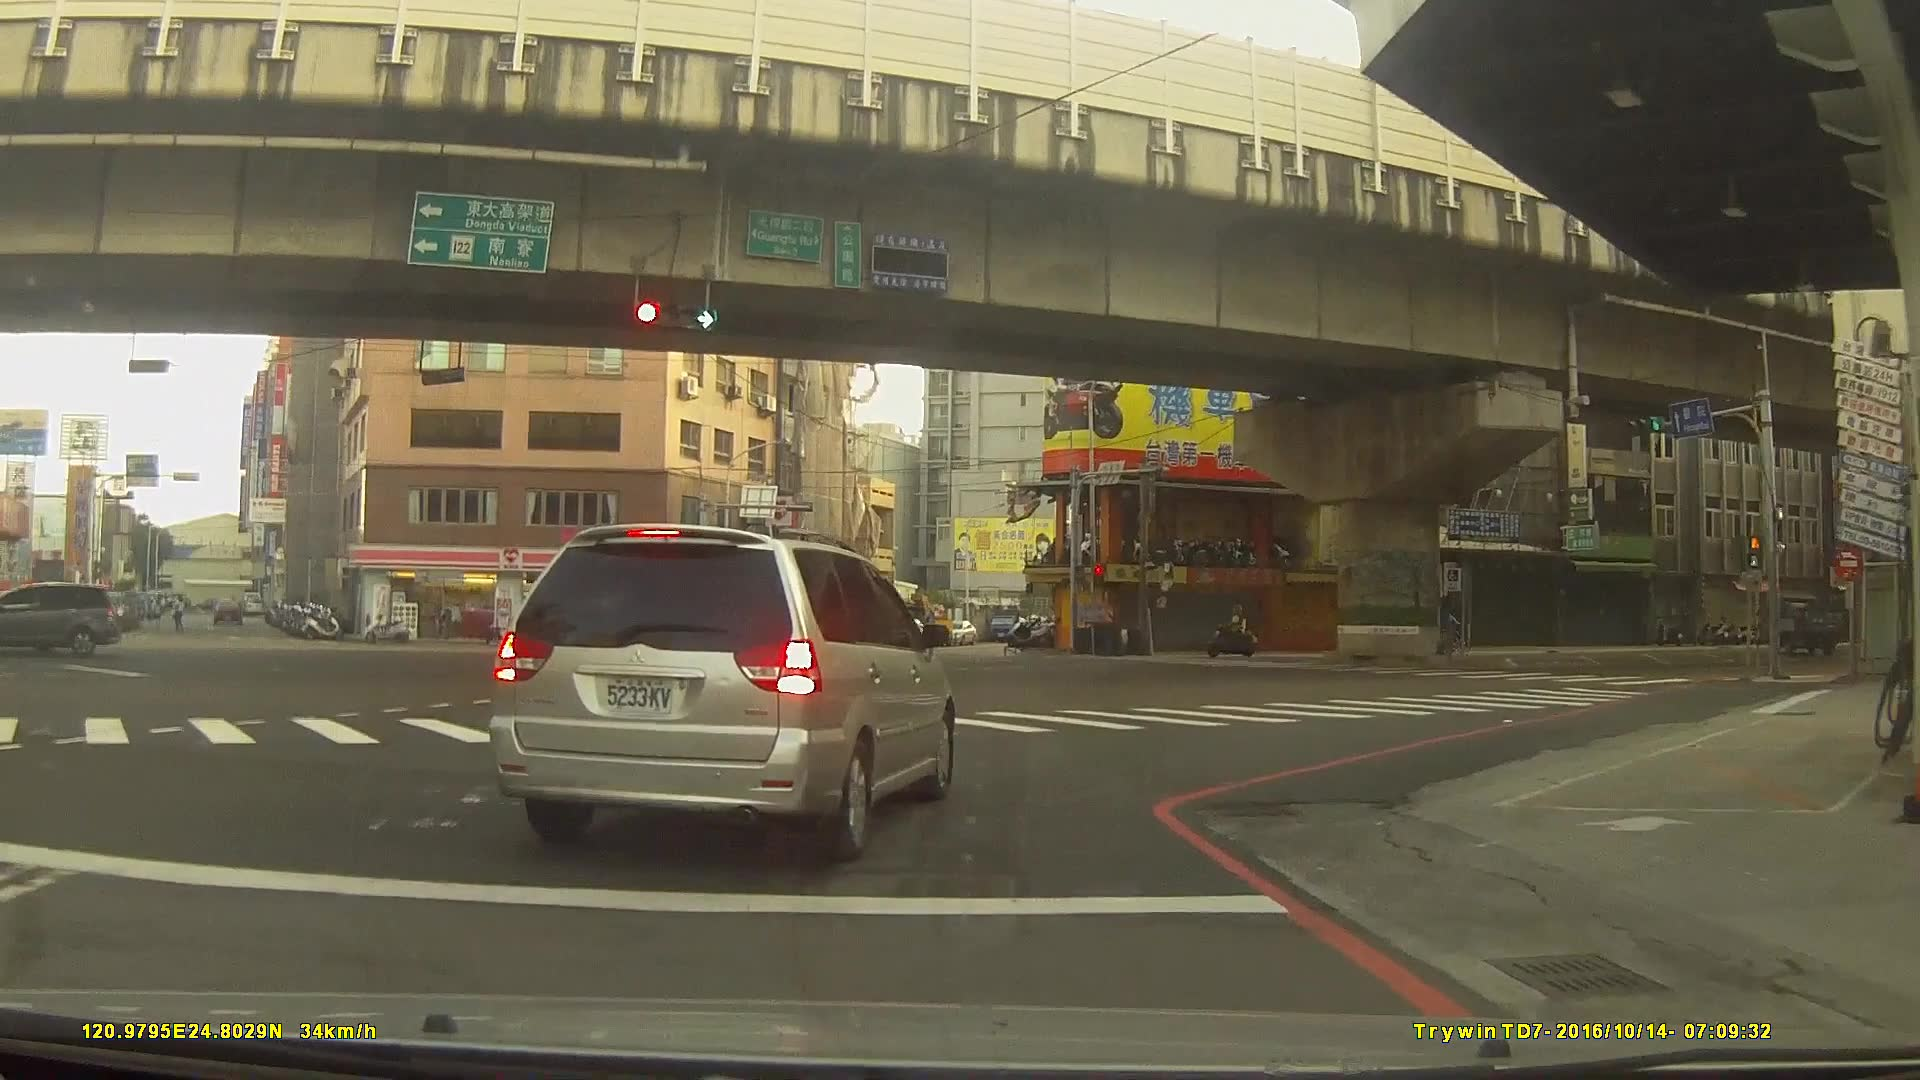rider: (1205, 603, 1258, 657)
vehicle: (487, 520, 954, 858), (0, 578, 123, 656), (1765, 591, 1843, 655), (854, 619, 919, 656), (543, 606, 605, 633), (207, 594, 242, 624)
